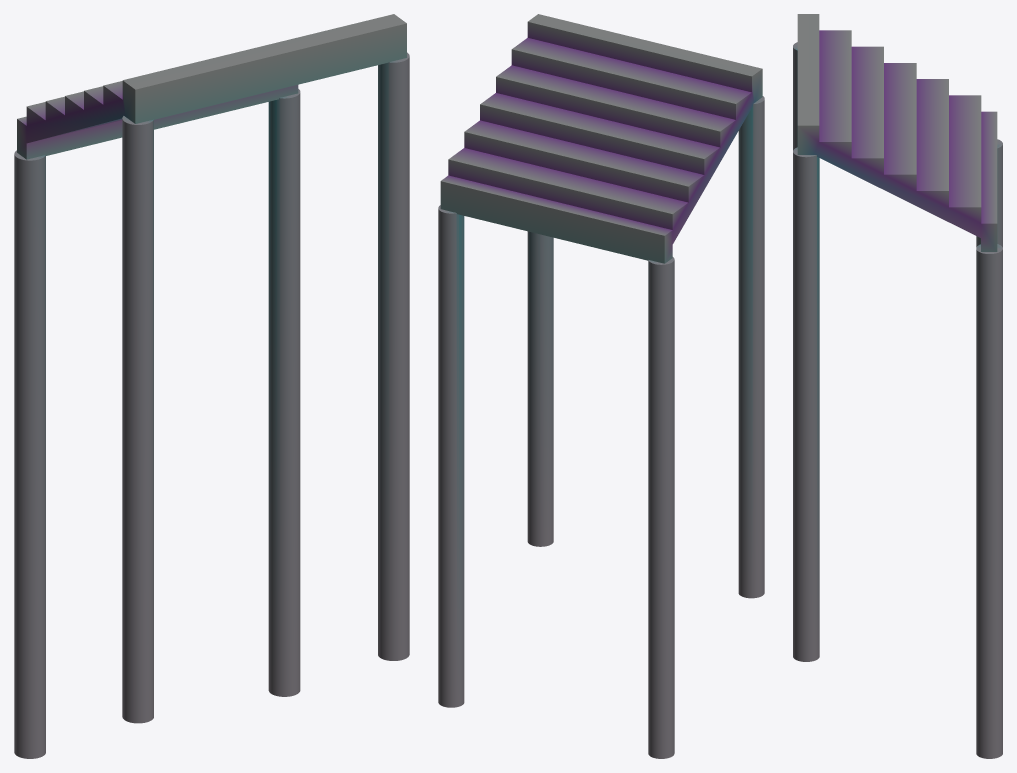
3 views of the same model, side by side, from view 1: azimuth 30°, elevation 25°; view 2: azimuth 150°, elevation 25°; view 3: azimuth 270°, elevation 25° (orthographic). The views are drawn at different scales.
Parts seen in each view (by area): view 1: stair_slab, post.003, post, post.002, post.001; view 2: stair_slab, post.002, post.003, post, post.001; view 3: stair_slab, post.003, post.001, post.002, post.
Boxes of the visible parts, x1=… form: stair_slab: x1=17, y1=14, x2=406, y2=159; post.003: x1=268, y1=89, x2=300, y2=696; post: x1=122, y1=116, x2=153, y2=723; post.002: x1=14, y1=150, x2=45, y2=758; post.001: x1=378, y1=52, x2=409, y2=660; stair_slab: x1=440, y1=14, x2=762, y2=263; post.002: x1=648, y1=257, x2=674, y2=758; post.003: x1=438, y1=205, x2=464, y2=707; post: x1=738, y1=96, x2=764, y2=598; post.001: x1=527, y1=231, x2=553, y2=546; stair_slab: x1=797, y1=14, x2=997, y2=251; post.003: x1=976, y1=244, x2=1002, y2=758; post.001: x1=793, y1=147, x2=819, y2=661; post.002: x1=976, y1=139, x2=1002, y2=247; post: x1=793, y1=42, x2=797, y2=150.
Bounding box in the file's own units: 0.9896 × 2.5 × 0.754.
